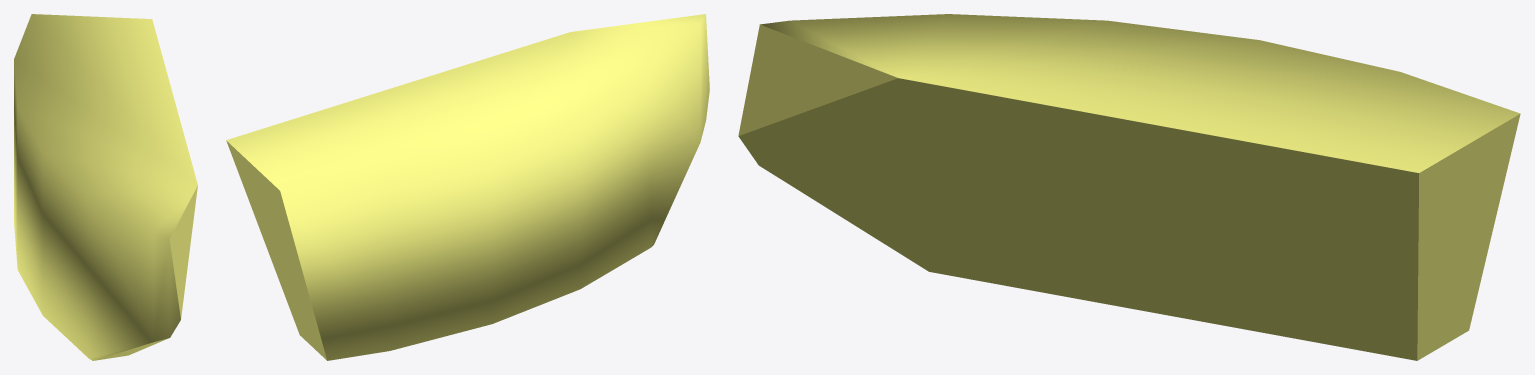
Rendered from breakableCenter_cell.fbx.
3 views of the same model, side by side, from view 1: azimuth 30°, elevation 25°; view 2: azimuth 150°, elevation 25°; view 3: azimuth 270°, elevation 25° (orthographic). The views are drawn at different scales.
Parts seen in each view (by area): view 1: breakableCenter_cell; view 2: breakableCenter_cell; view 3: breakableCenter_cell.
Part boxes in pixels (x1=…): breakableCenter_cell: x1=14, y1=14, x2=197, y2=360; breakableCenter_cell: x1=226, y1=14, x2=709, y2=360; breakableCenter_cell: x1=738, y1=14, x2=1520, y2=360.
Bounding box in the file's own units: 20.56 × 14.14 × 42.7.
